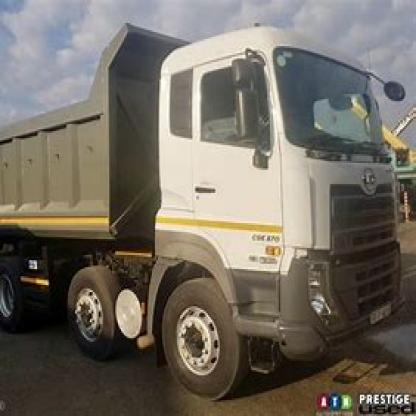dump_truck: (6, 12, 411, 400)
